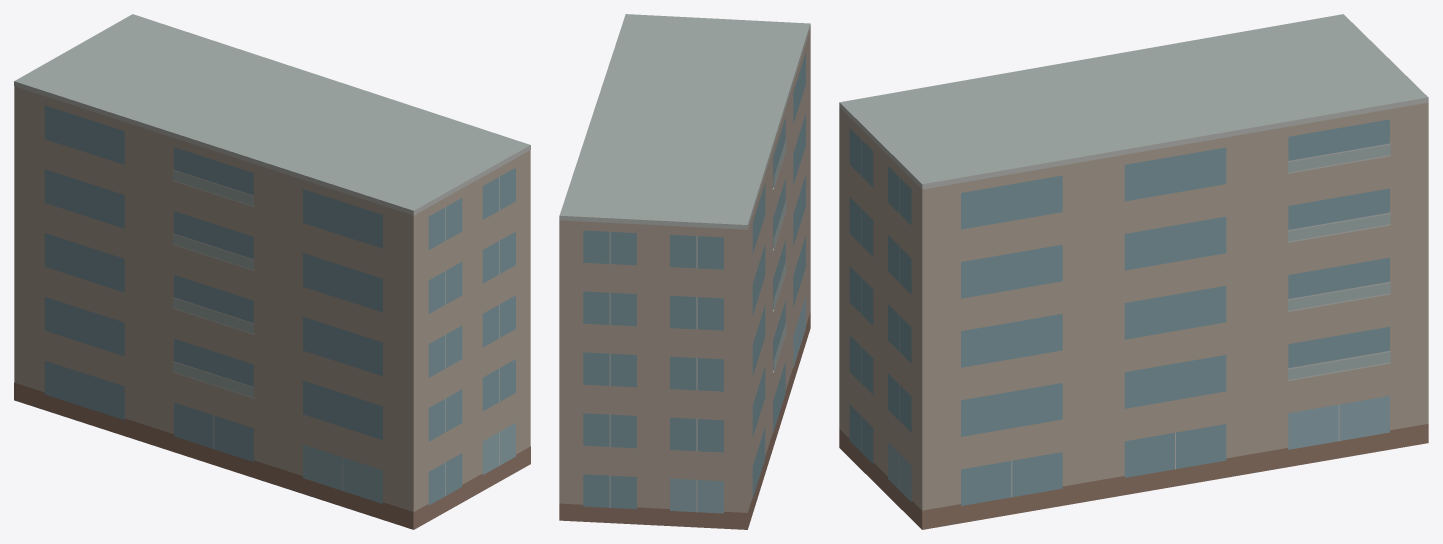
File: survey-upis-32943247.glb
3 views of the same model, side by side, from view 1: azimuth 30°, elevation 25°; view 2: azimuth 150°, elevation 25°; view 3: azimuth 270°, elevation 25° (orthographic). The views are drawn at different scales.
Parts seen in each view (by area): view 1: survey-upis-32943247.tmp; view 2: survey-upis-32943247.tmp; view 3: survey-upis-32943247.tmp.
Part boxes in pixels (left/top/right/bottom): survey-upis-32943247.tmp: left=14, top=14, right=530, bottom=529; survey-upis-32943247.tmp: left=559, top=14, right=810, bottom=529; survey-upis-32943247.tmp: left=839, top=14, right=1428, bottom=529.
Bounding box in the file's own units: 17.08 × 16.15 × 24.96.
